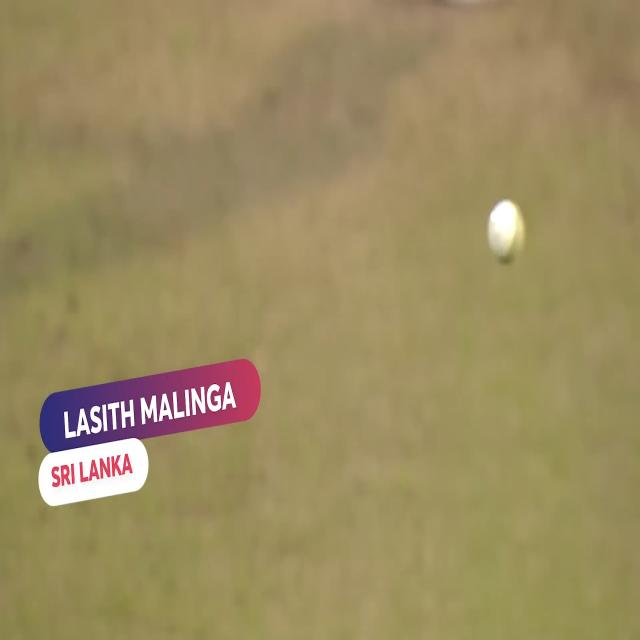ball: (484, 187, 531, 274)
